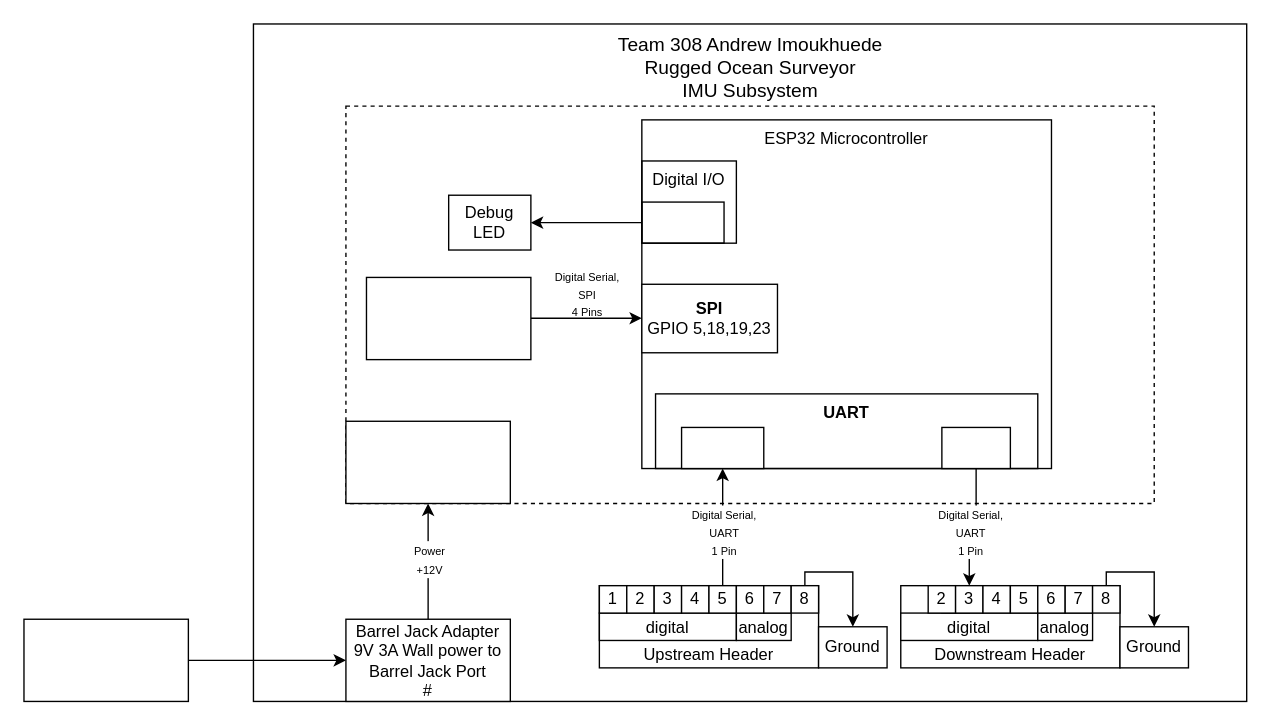
The diagram is 1271 pixels wide and 726 high, and some of its shapes have lost their labels. Here are the shapes that lost their labels. From the top down, the centre of each, then its label:
At pixel 682 222: "GPIO 5".
At pixel 448 318: "IMU Sensor # MPU-6050 TDK InvenSense".
At pixel 427 461: "3.3V 1.5A Switching Power Supply MFG #".
At pixel 722 447: "GPIO 3 RX".
At pixel 975 447: "GPIO 1 TX".
At pixel 105 659: "12V 2A AC-DC Wall Power Supply Manufacturer Part #".
